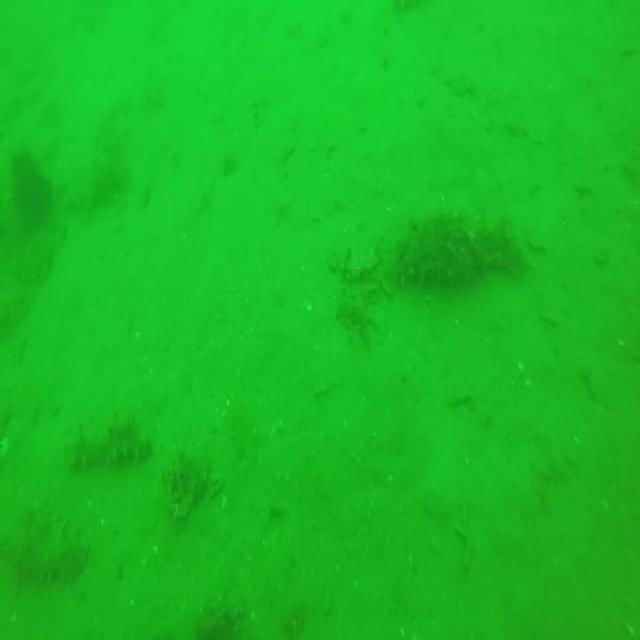holothurian: (381, 212, 521, 288), (10, 510, 84, 591), (68, 413, 150, 466)
